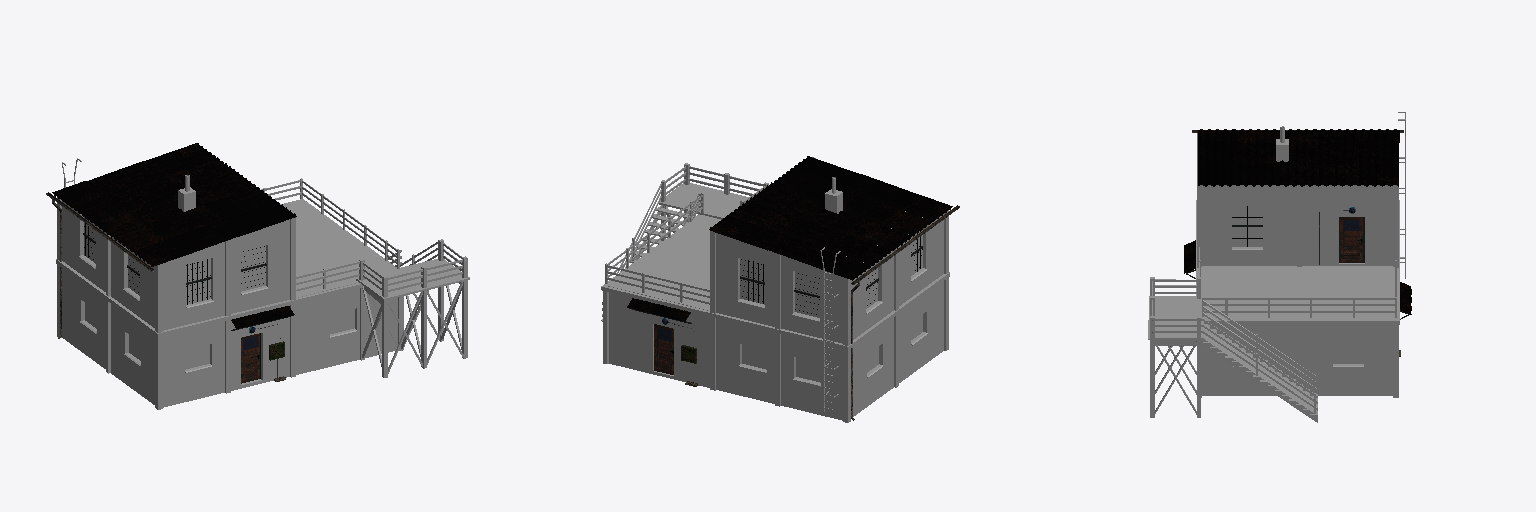
3 renders of one model, left to right at view 1: azimuth 30°, elevation 25°; view 2: azimuth 150°, elevation 25°; view 3: azimuth 270°, elevation 25°, orthographic.
Visible parts, largest first — view 1: schody.001_shodiste.001; view 2: schody.001_shodiste.001; view 3: schody.001_shodiste.001.
Boxes of the visible parts, box(x1,y1,x2,y2) form: schody.001_shodiste.001: box(46, 143, 469, 409); schody.001_shodiste.001: box(601, 156, 959, 422); schody.001_shodiste.001: box(1148, 112, 1411, 422).
Size of the model in its own units: 16.07 by 9.9 by 12.33.
4 materials, 1 textured.